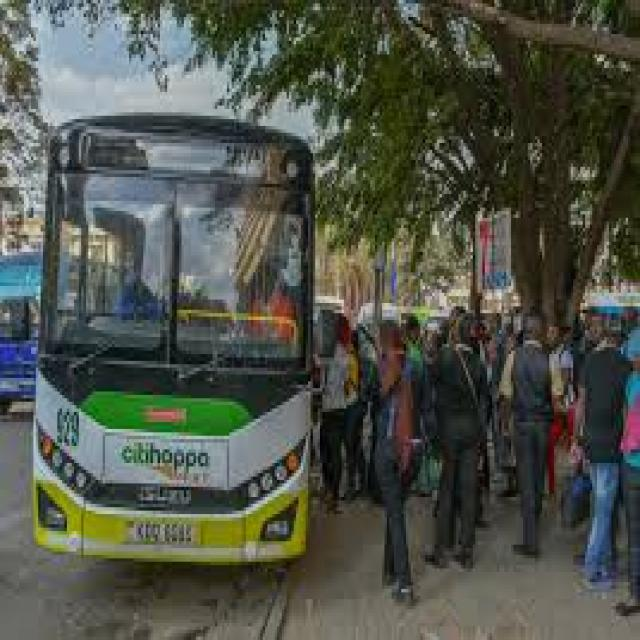bus: (12, 41, 344, 587)
